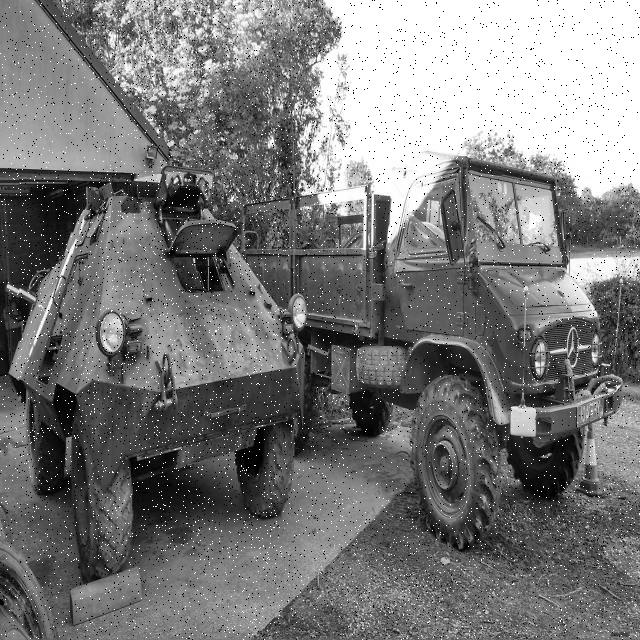MIL_MBT: (20, 175, 281, 563)
